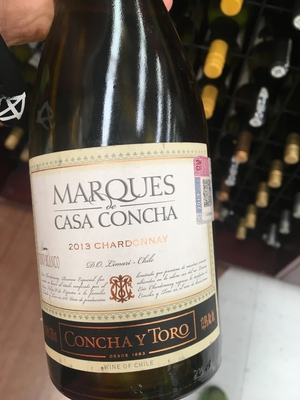marques de casa concha chardonnay: (24, 29, 233, 400)
